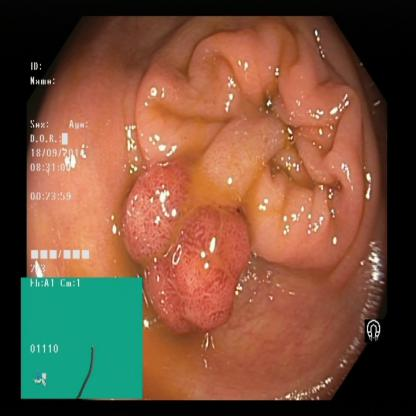Labels: (27, 54, 122, 280), (20, 277, 146, 399), (363, 307, 395, 358)
Polyps: (132, 179, 244, 333)
